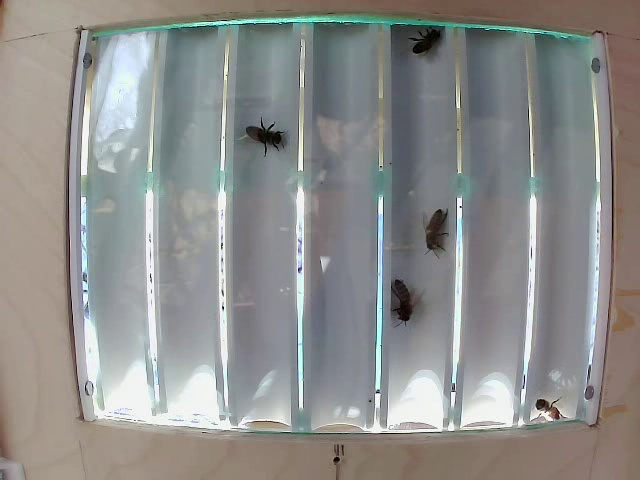bee: (241, 121, 304, 168), (378, 272, 423, 327), (417, 197, 457, 258), (397, 32, 454, 56)
